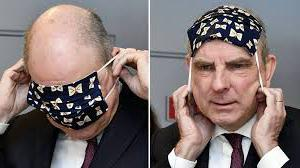mask_weared_incorrect: (29, 41, 102, 143), (188, 27, 259, 125)
